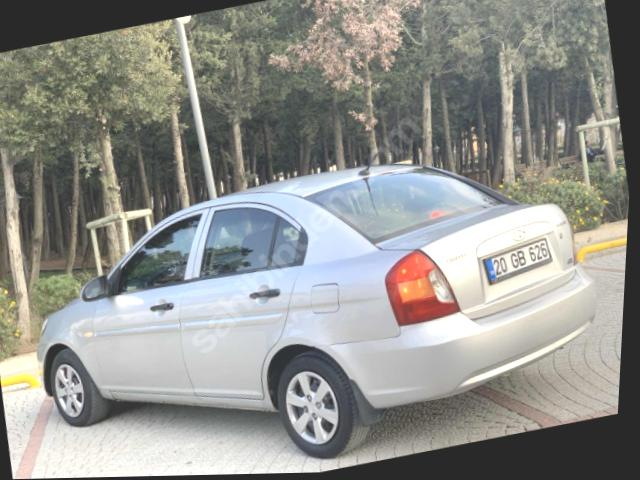plaka: (483, 238, 551, 284)
